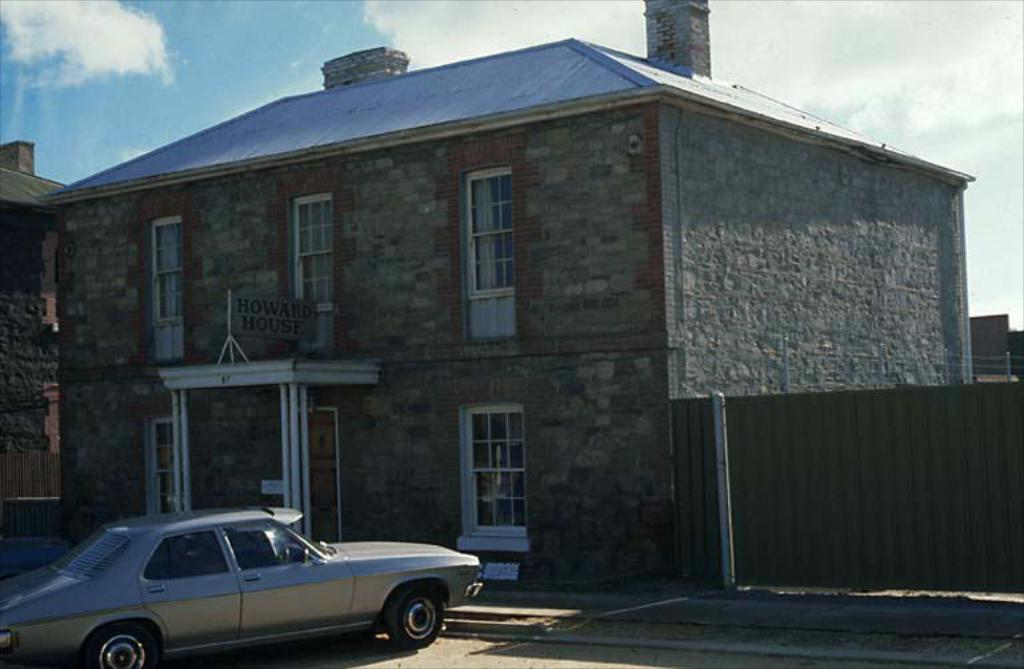Car: (0, 497, 481, 667)
